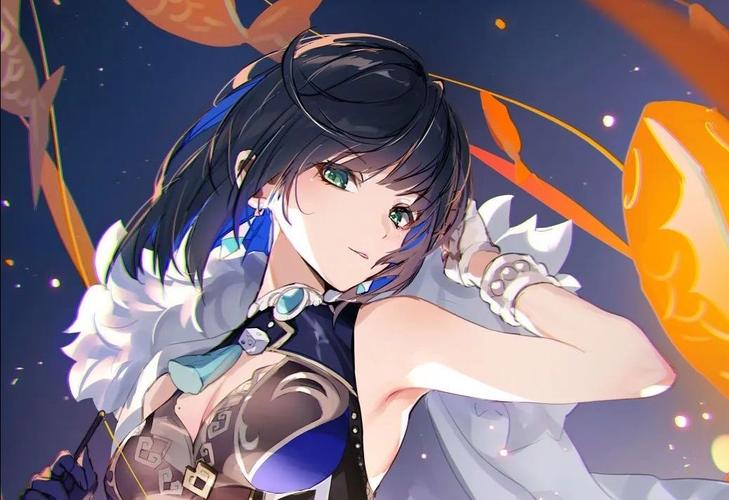夜兰: (18, 35, 679, 500)
